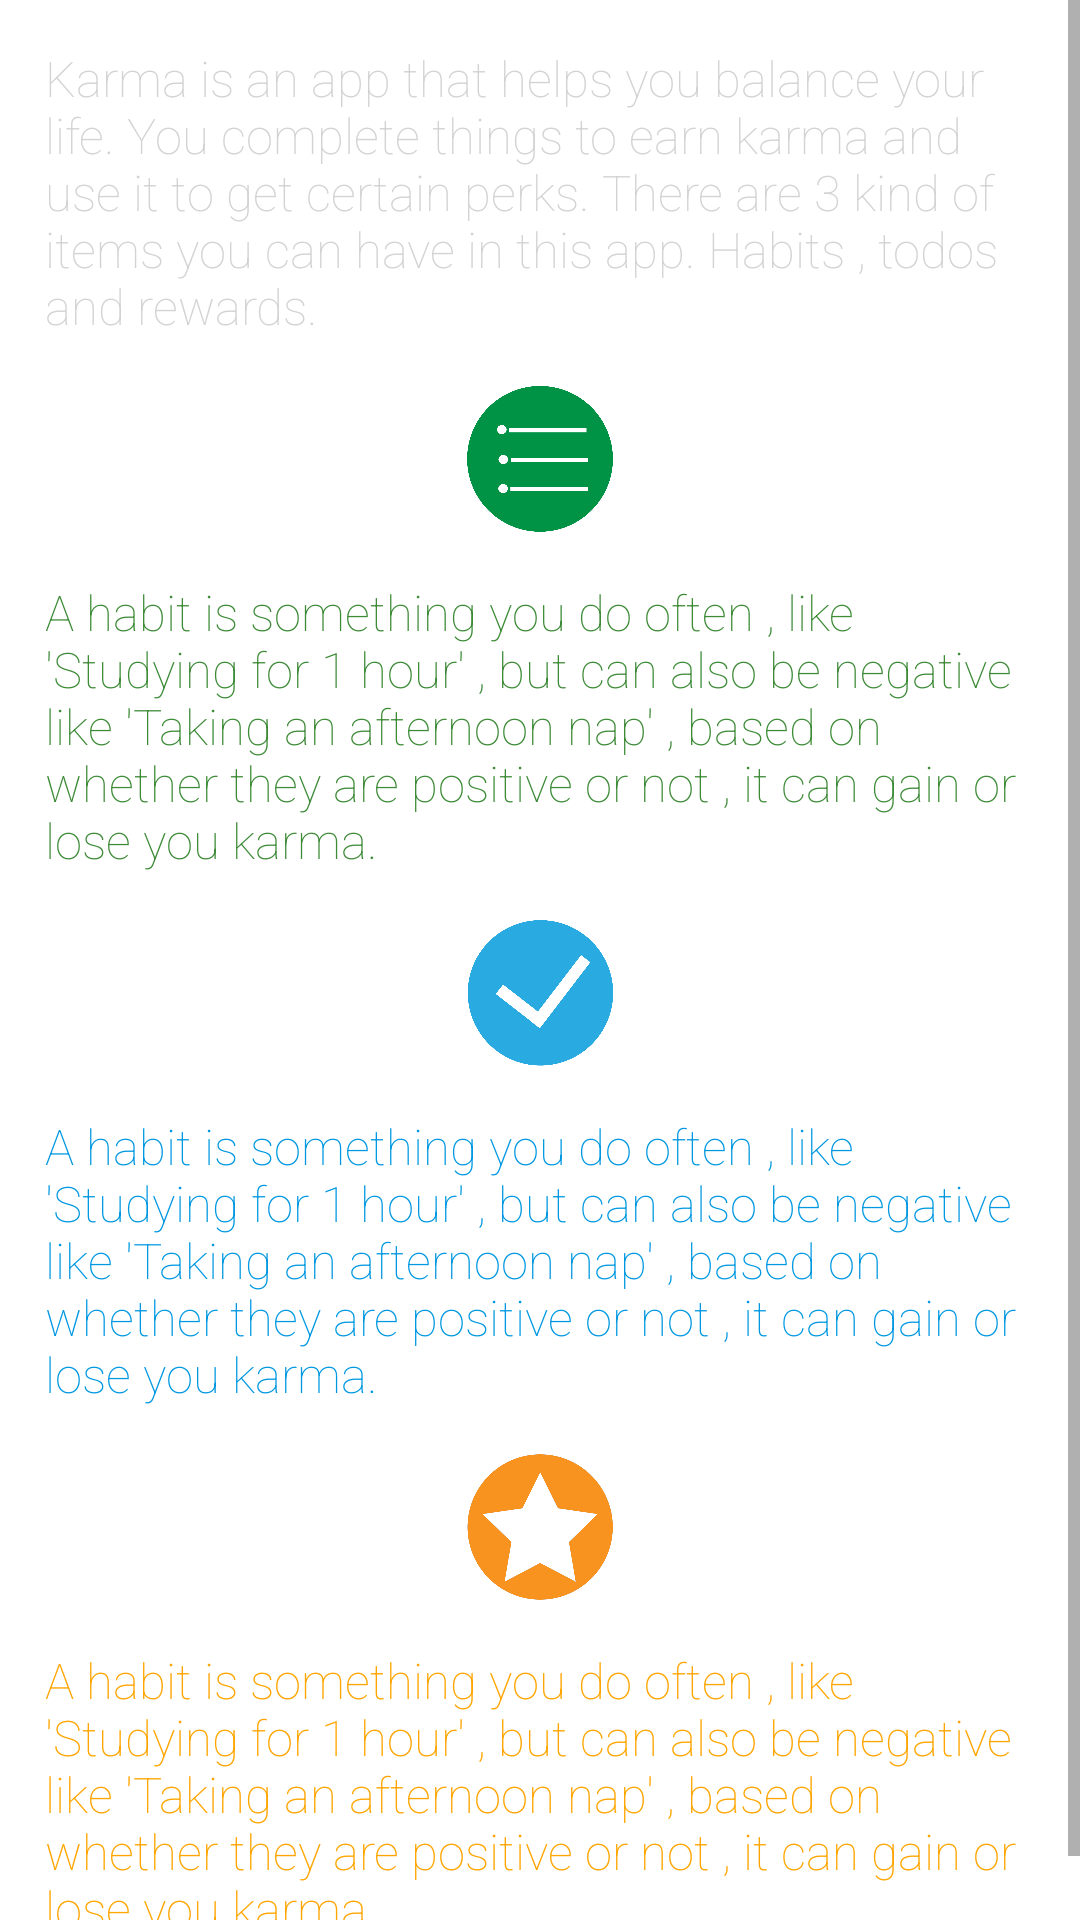

Where icons sit on this 1080x1920 app screen, as (x1, y1, x2, y2):
reward: (467, 1454, 613, 1600)
todo: (468, 920, 613, 1066)
